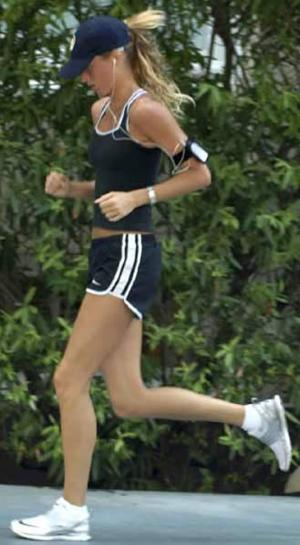person: (10, 13, 294, 538)
